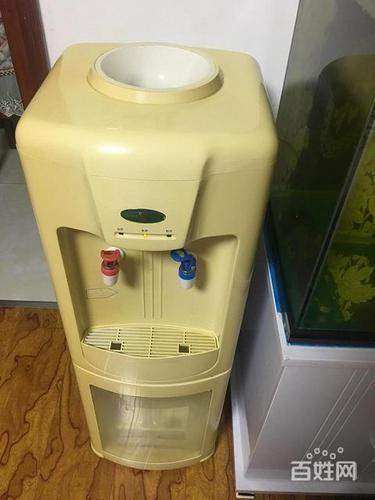Dispenser: (13, 41, 279, 472)
